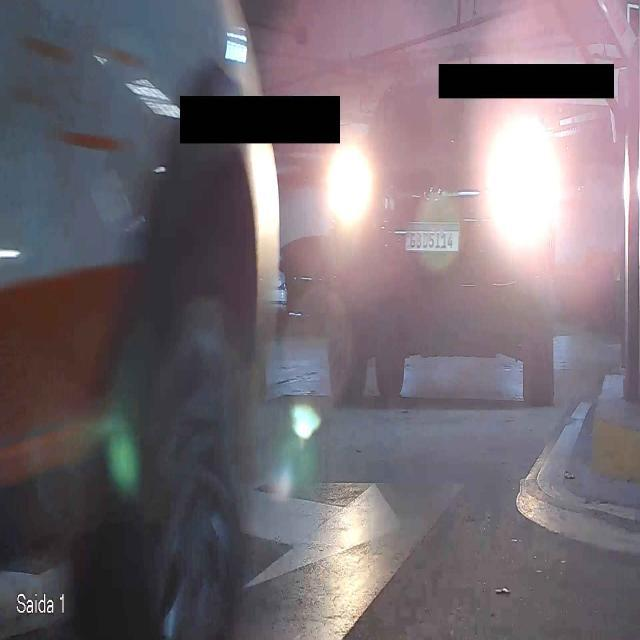mercosul_plate: (401, 220, 462, 254)
